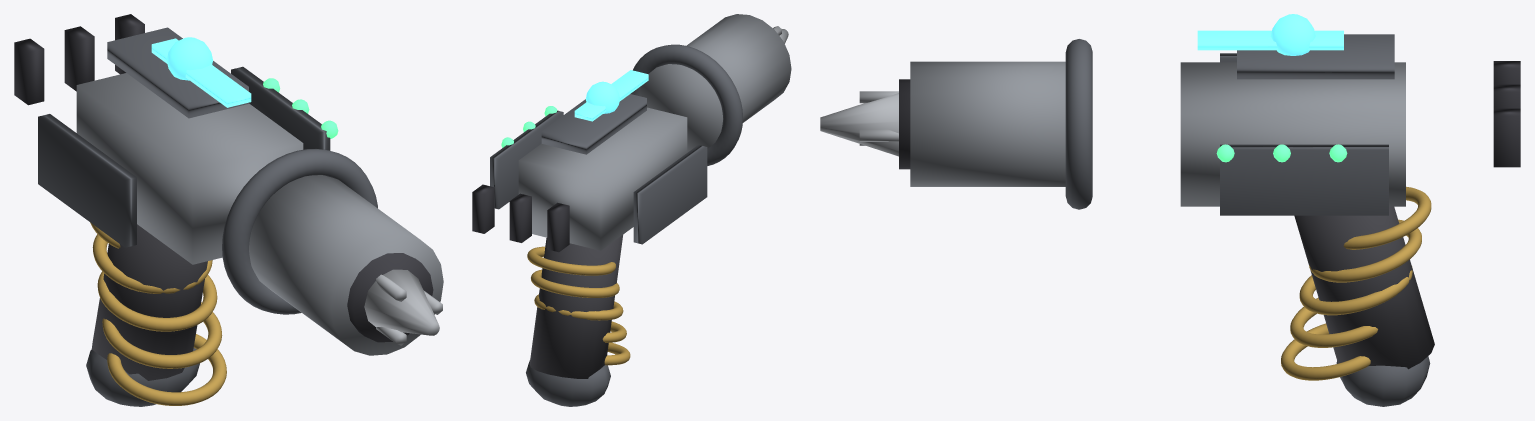
File: mesh_hand_drill.glb
The picture shows the model from 3 angles, left to right: view 1: azimuth 30°, elevation 25°; view 2: azimuth 150°, elevation 25°; view 3: azimuth 270°, elevation 25°; orthographic projection. The views are drawn at different scales.
Visible parts, largest first — view 1: Body_Main, Barrel_Outer, Grip_Main, Body_PanelL, Barrel_Collar, Body_TopRidge, Drill_Bit_Tip, Body_PanelR, Barrel_Inner, Grip_Ridge_0, Grip_Pommel, Grip_Ridge_1 (+8 smaller); view 2: Body_Main, Barrel_Outer, Grip_Main, Body_PanelL, Barrel_Collar, Body_TopRidge, Body_PanelR, Grip_Pommel, Grip_Ridge_4, Energy_Strip, Exhaust_Vent_0, Exhaust_Vent_2 (+6 smaller); view 3: Barrel_Outer, Body_Main, Grip_Main, Body_PanelR, Body_TopRidge, Barrel_Collar, Grip_Pommel, Drill_Bit_Tip, Energy_Strip, Grip_Ridge_2, Grip_Ridge_0, Exhaust_Vent_2 (+7 smaller).
Boxes of the visible parts, x1,y1,x2,y2 form: Body_Main: [76, 73, 303, 264]; Barrel_Outer: [249, 175, 443, 355]; Grip_Main: [91, 224, 207, 380]; Body_PanelL: [38, 114, 136, 247]; Barrel_Collar: [222, 149, 377, 314]; Body_TopRidge: [107, 27, 248, 118]; Drill_Bit_Tip: [364, 269, 439, 335]; Body_PanelR: [231, 66, 330, 150]; Barrel_Inner: [347, 253, 433, 342]; Grip_Ridge_0: [107, 334, 226, 405]; Grip_Pommel: [86, 348, 199, 406]; Grip_Ridge_1: [102, 302, 222, 368]; Body_Main: [518, 107, 687, 250]; Barrel_Outer: [639, 14, 791, 152]; Grip_Main: [530, 235, 622, 378]; Body_PanelL: [633, 145, 707, 244]; Barrel_Collar: [630, 44, 742, 165]; Body_TopRidge: [541, 94, 646, 154]; Body_PanelR: [490, 110, 563, 209]; Grip_Pommel: [526, 360, 610, 406]; Grip_Ridge_4: [527, 246, 615, 275]; Energy_Strip: [574, 70, 648, 121]; Exhaust_Vent_0: [547, 202, 569, 252]; Exhaust_Vent_2: [472, 184, 494, 233]; Barrel_Outer: [910, 61, 1065, 186]; Body_Main: [1180, 62, 1405, 206]; Grip_Main: [1294, 206, 1434, 369]; Body_PanelR: [1220, 144, 1388, 215]; Body_TopRidge: [1237, 34, 1394, 79]; Barrel_Collar: [1065, 39, 1092, 209]; Grip_Pommel: [1336, 356, 1430, 406]; Drill_Bit_Tip: [820, 93, 898, 156]; Energy_Strip: [1197, 30, 1343, 50]; Grip_Ridge_2: [1299, 266, 1412, 315]; Grip_Ridge_0: [1281, 323, 1370, 380]; Exhaust_Vent_2: [1493, 108, 1520, 167].
Bounding box in the file's own units: 0.107 × 0.1882 × 0.311.
